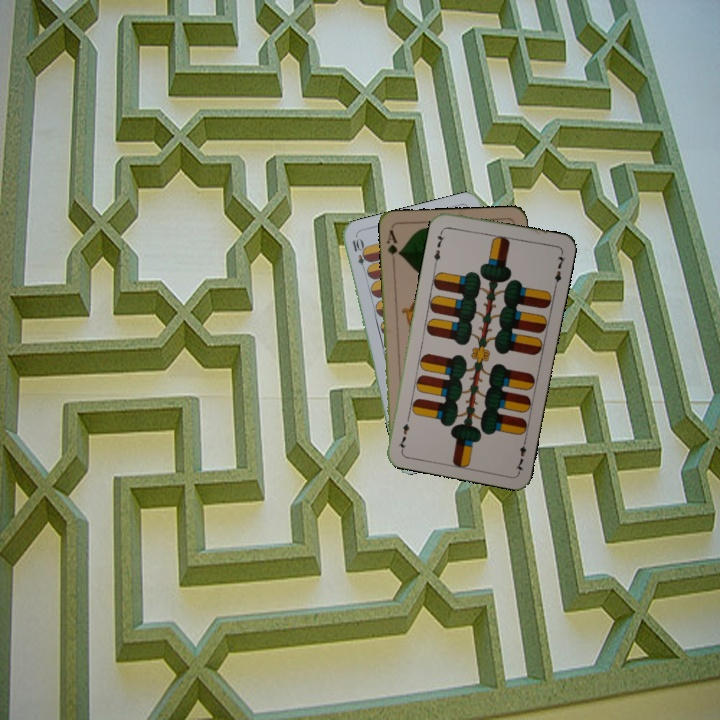E10: (348, 234, 370, 275)
E7: (511, 434, 529, 474), (430, 226, 447, 266)
GA: (383, 226, 403, 266)
